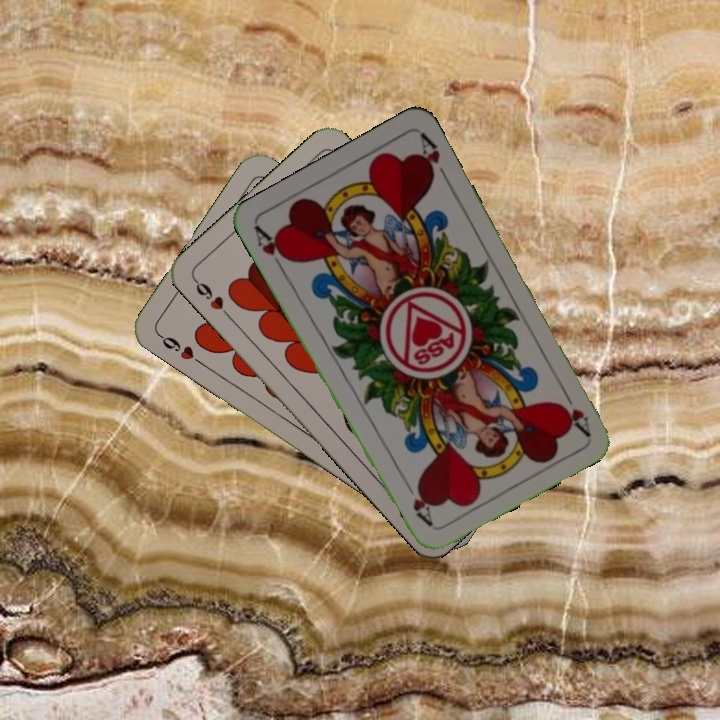H9: (189, 275, 235, 322), (154, 330, 206, 369)
HA: (251, 222, 292, 276), (555, 383, 593, 438)
